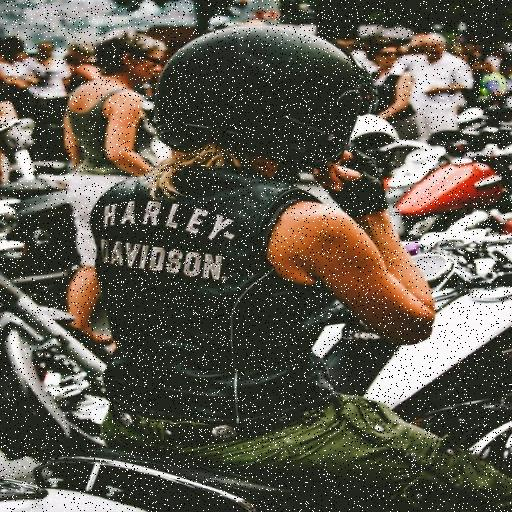Helmet: (154, 11, 386, 193)
